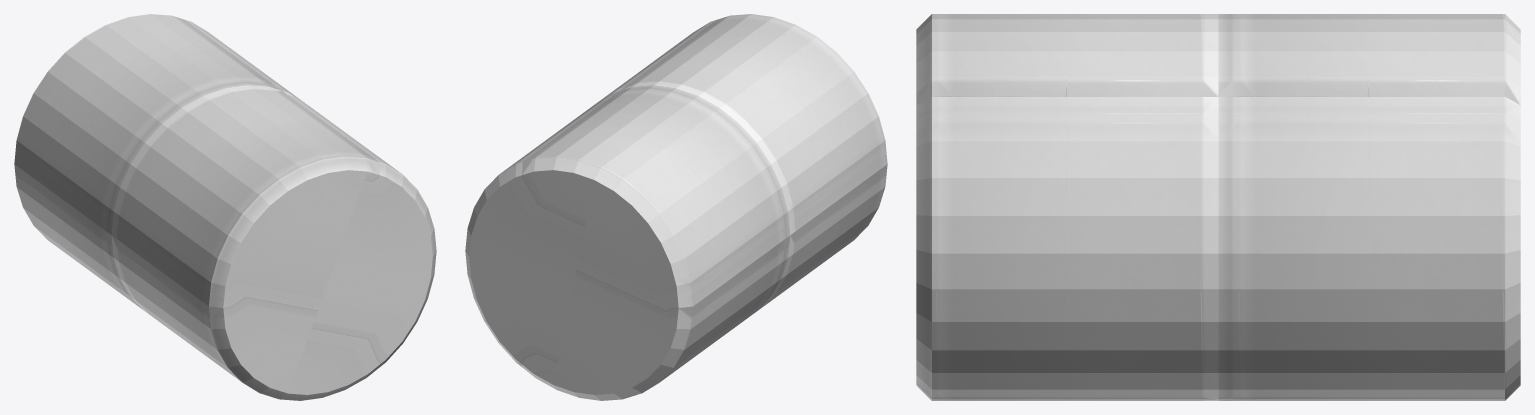
File: fuel_tank.glb
3 renders of one model, left to right at view 1: azimuth 30°, elevation 25°; view 2: azimuth 150°, elevation 25°; view 3: azimuth 270°, elevation 25°, orthographic. The views are drawn at different scales.
Visible parts, largest first — view 1: Cylinder; view 2: Cylinder; view 3: Cylinder.
Part boxes in pixels (box(x1,y1,x2,y2)): Cylinder: box(14, 14, 436, 400); Cylinder: box(465, 14, 887, 400); Cylinder: box(916, 14, 1520, 400).
Size of the model in its own units: 0.5 by 0.5 by 0.78.
Materials: 1 (1 with a texture image).
